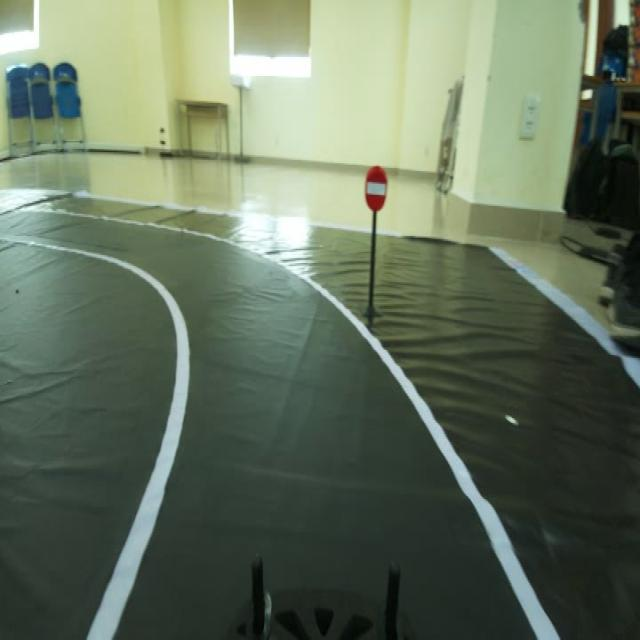no_entry: (360, 162, 394, 225)
